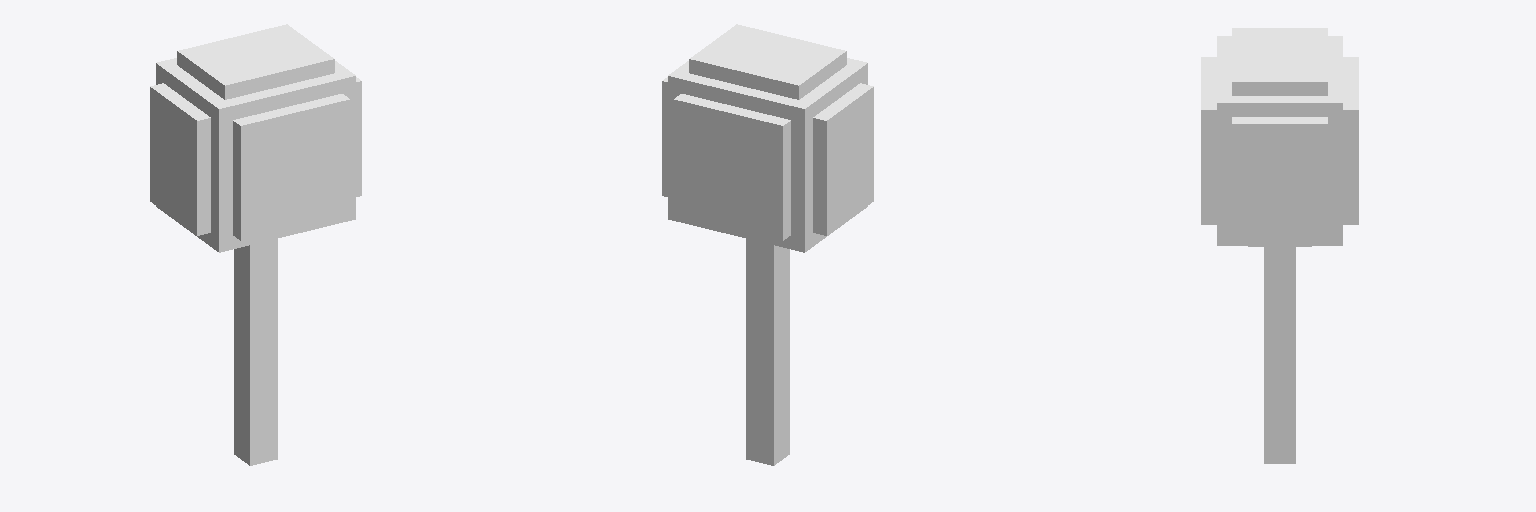
The model's file is Birch.obj.
3 renders of one model, left to right at view 1: azimuth 30°, elevation 25°; view 2: azimuth 150°, elevation 25°; view 3: azimuth 270°, elevation 25°, orthographic.
Parts seen in each view (by area): view 1: Birch; view 2: Birch; view 3: Birch.
Part boxes in pixels (x1,y1,x2,y2): Birch: (150, 24, 361, 465); Birch: (662, 24, 873, 465); Birch: (1201, 28, 1358, 463).
Bounding box in the file's own units: 12 × 28 × 10.